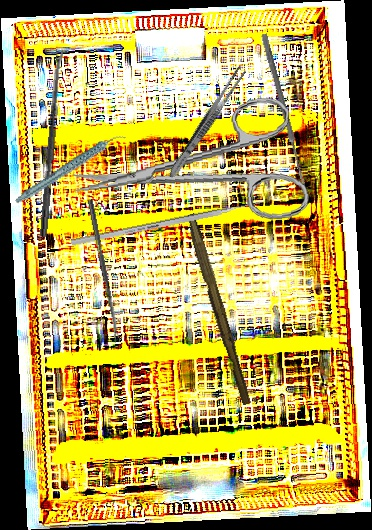Dressing Forceps: (165, 64, 248, 181)
Handpiece: (5, 132, 136, 206)
Iris Scissors: (66, 93, 311, 241)
Pusher: (70, 196, 275, 247)
Scalpel Handle: (180, 213, 256, 406)
Surgical Spoon: (259, 33, 309, 190), (86, 199, 121, 343), (39, 49, 65, 237)
